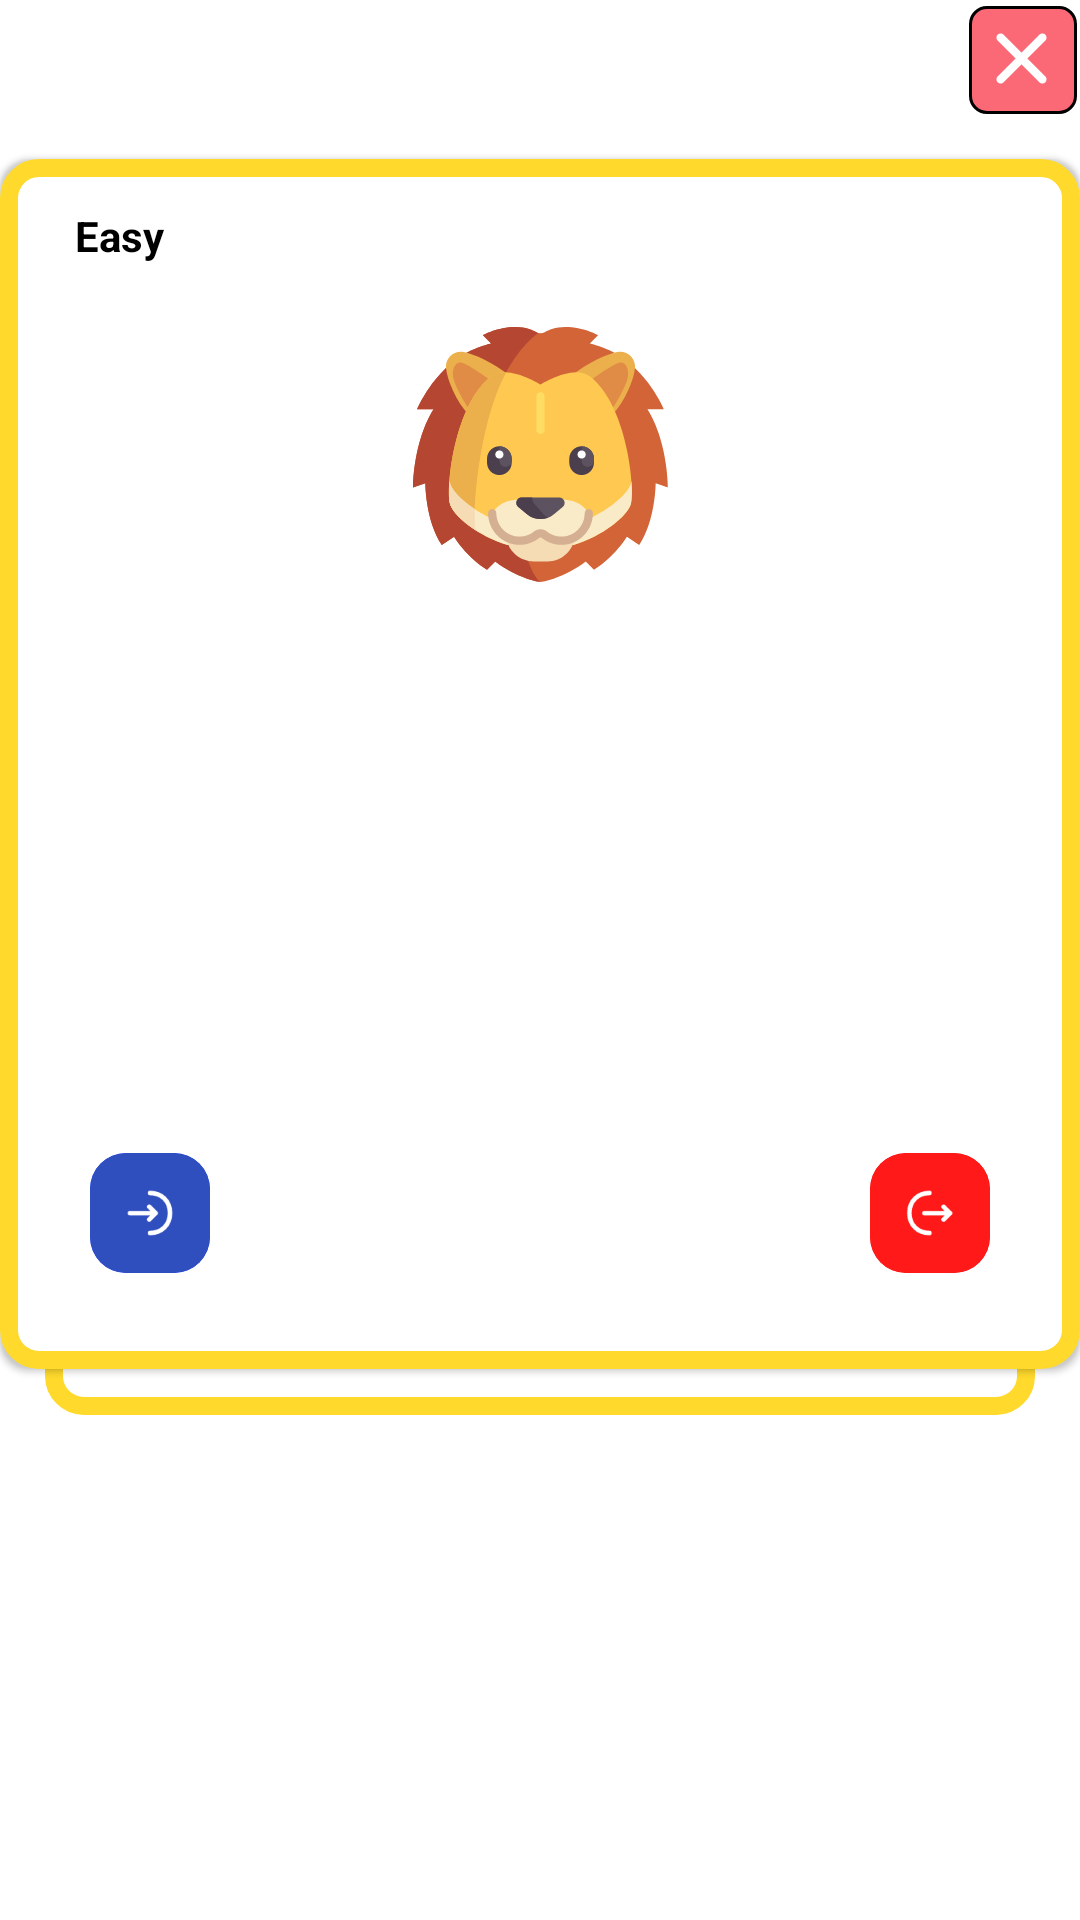

Named icons in this screenshot (1080px x 1920px) and their bounding boxes, (x1, y1, x2, y2):
english close: (969, 6, 1077, 114)
english lion: (413, 327, 668, 582)
